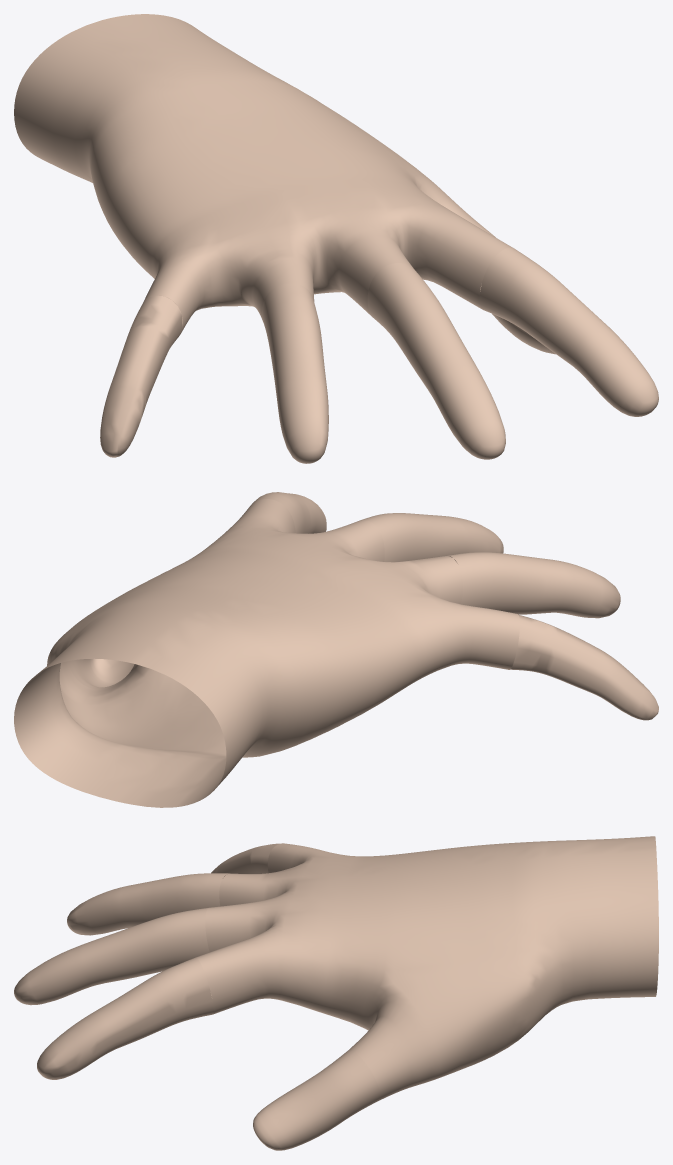
File: manitaaaaaa.fbx
The picture shows the model from 3 angles, top to bottom: view 1: azimuth 30°, elevation 25°; view 2: azimuth 150°, elevation 25°; view 3: azimuth 270°, elevation 25°; orthographic projection. The views are drawn at different scales.
Visible parts, largest first — view 1: AnatomyHandHumanMale:hand_basemesh; view 2: AnatomyHandHumanMale:hand_basemesh; view 3: AnatomyHandHumanMale:hand_basemesh.
Part boxes in pixels (x1,y1,x2,y2): AnatomyHandHumanMale:hand_basemesh: (14, 14, 658, 463); AnatomyHandHumanMale:hand_basemesh: (14, 492, 658, 807); AnatomyHandHumanMale:hand_basemesh: (14, 836, 658, 1150).
Bounding box in the file's own units: 19.19 × 8.18 × 24.
